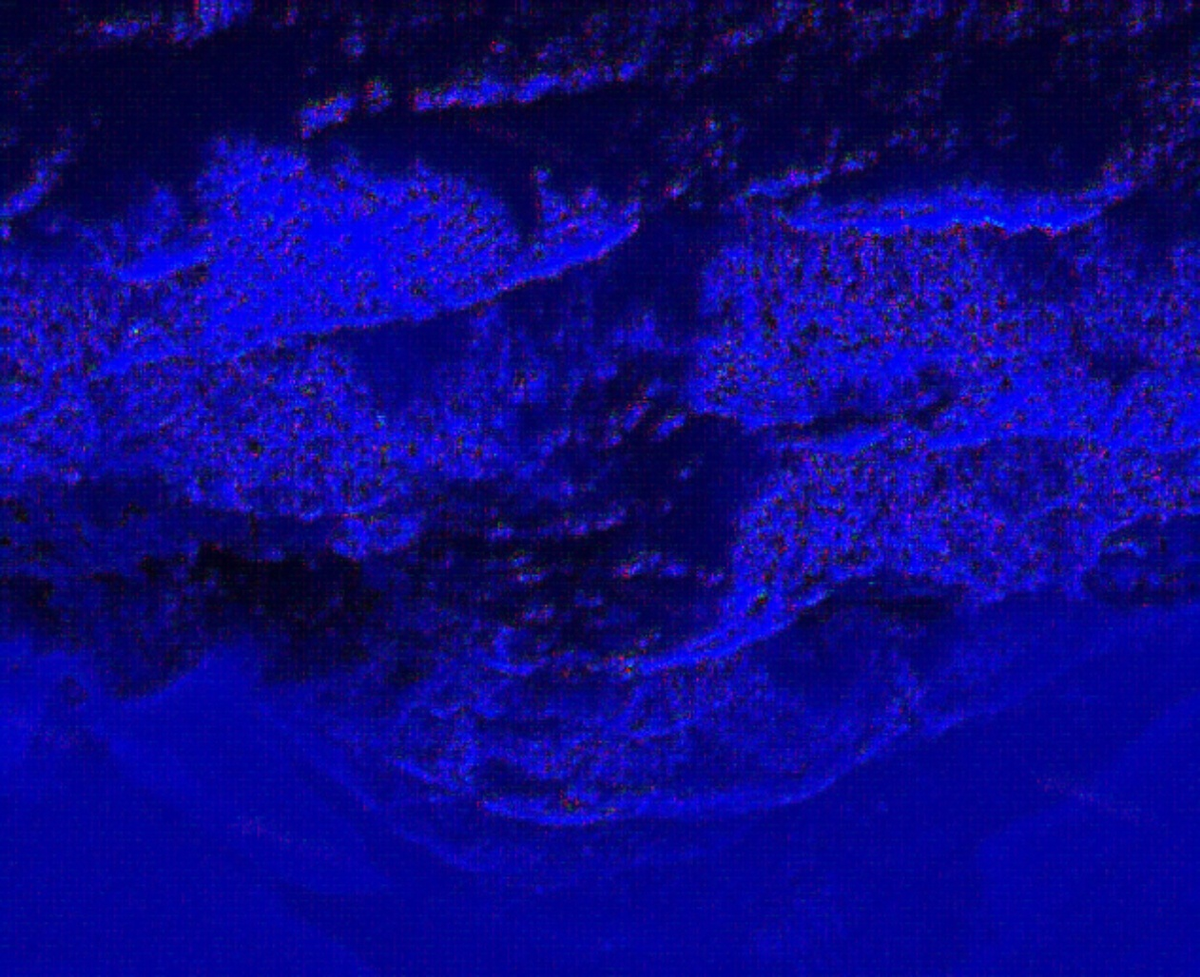rip_current: (481, 106, 789, 702)
